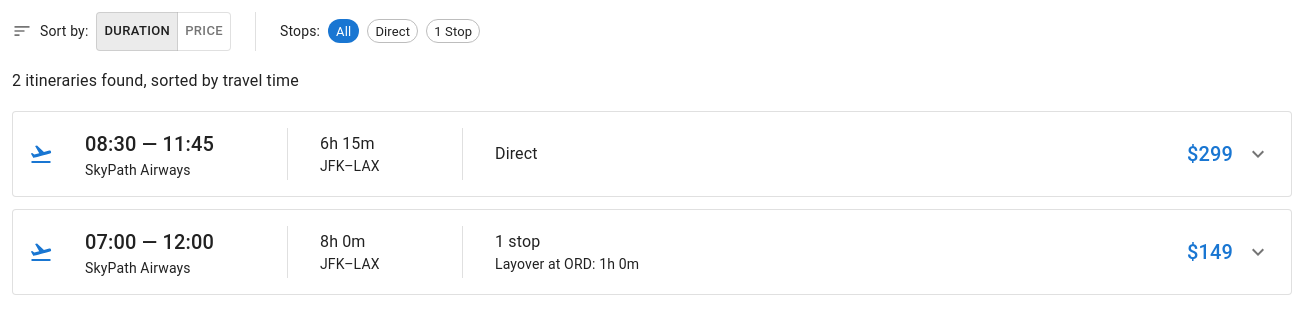
Test: ResultsPanel › filtering by 1 Stop shows only 1-stop itineraries
Click the button "1 Stop".
click(453, 31)  # box [426,19,480,43]
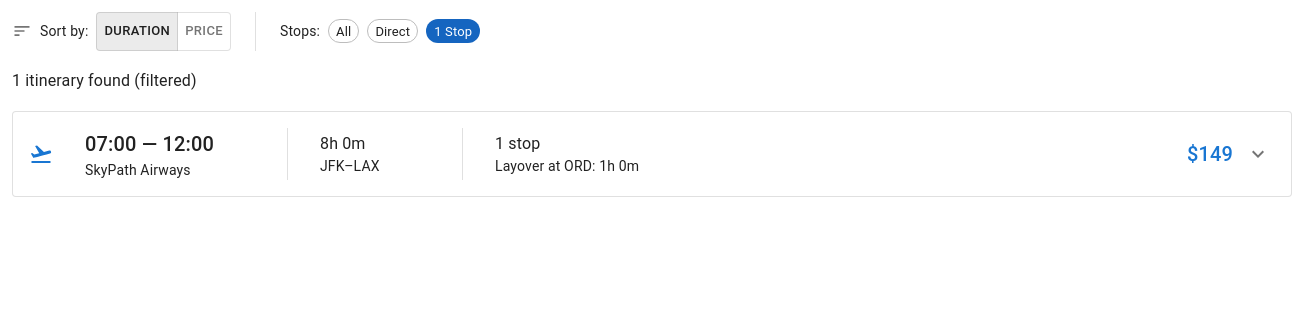
expect the text "07:00 — 12:00" is shown: met, box [85,132,214,156]
expect the text "08:30 — 11:45" is gone: met
